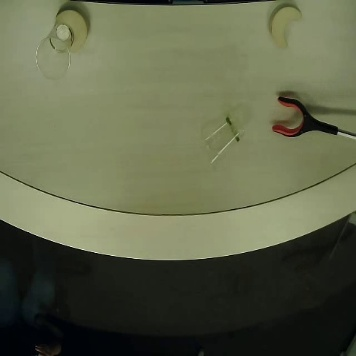empty_cup: (205, 112, 247, 168), (34, 23, 76, 79)
puck: (55, 9, 89, 54), (268, 4, 302, 49)
